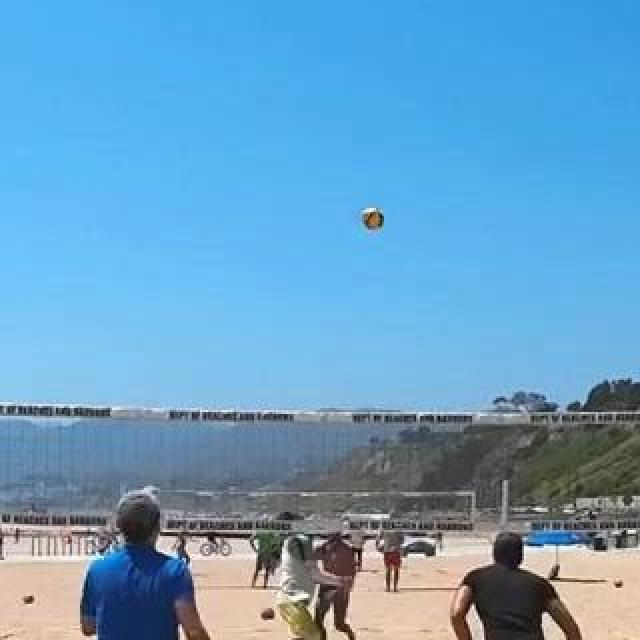volleyball: (362, 210, 386, 232), (260, 607, 274, 621), (23, 593, 35, 605), (613, 579, 623, 589)
